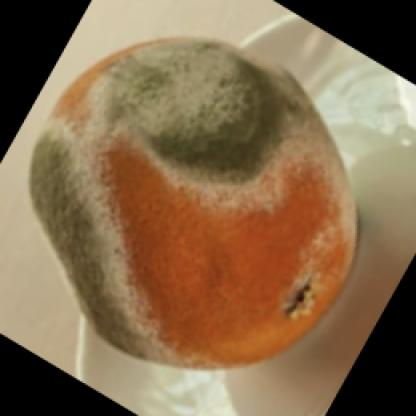rotten: (29, 38, 361, 373)
